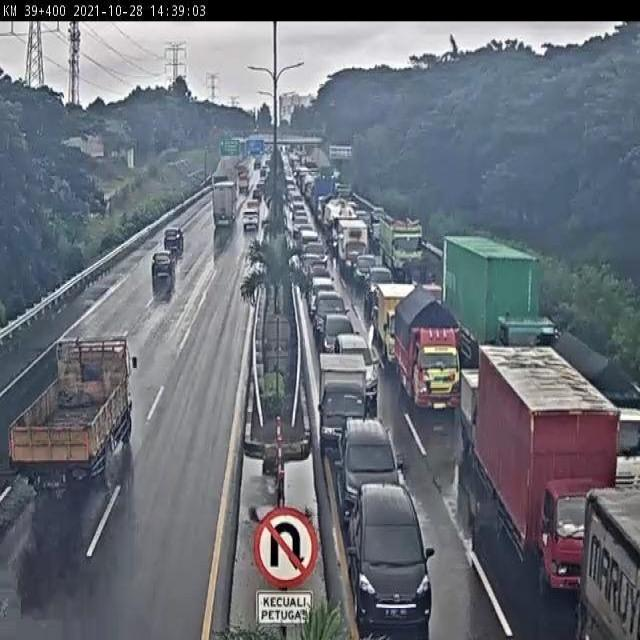big truck: (478, 346, 610, 574), (380, 214, 423, 270)
car: (353, 485, 430, 623), (344, 420, 404, 501), (379, 284, 420, 367), (337, 335, 375, 389), (321, 311, 355, 352), (148, 251, 175, 280), (315, 292, 349, 312), (162, 228, 183, 257), (370, 266, 395, 290), (310, 276, 334, 299), (242, 208, 261, 232)
small truck: (11, 334, 129, 494), (401, 280, 460, 407), (320, 353, 373, 451), (214, 182, 236, 222)
